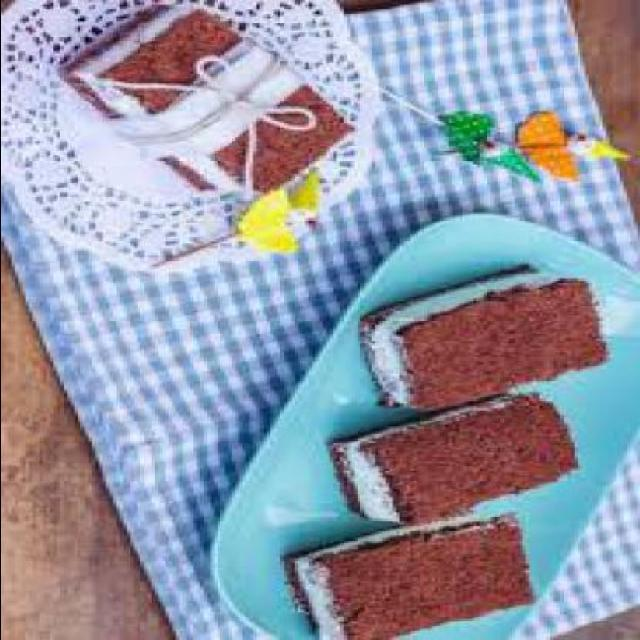Merendine packaged: (336, 264, 616, 416), (279, 505, 567, 638), (326, 391, 584, 527)
